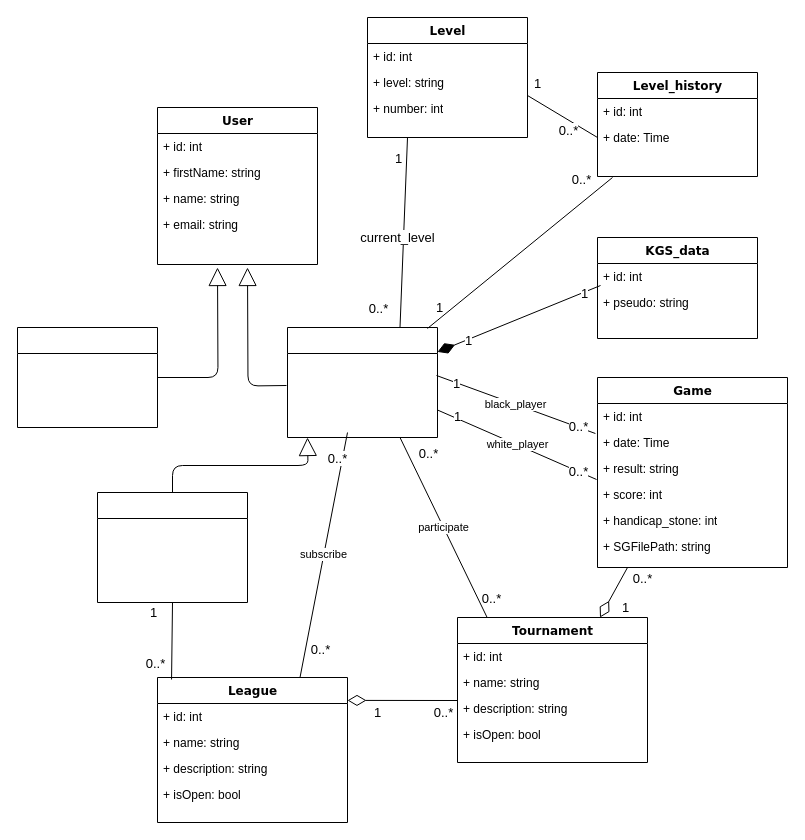
The diagram is 805 pixels wide and 840 high, and some of its shapes have lost their labels. The centre of each missing label's shape, as x and y in pixels:
Administrator: pixel 87 377
LeagueManager: pixel 172 547
Player: pixel 362 382
